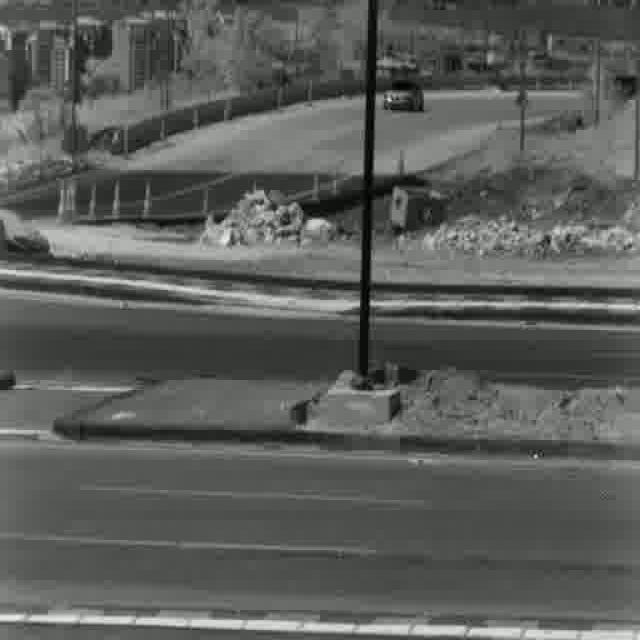Car: (386, 80, 424, 111)
